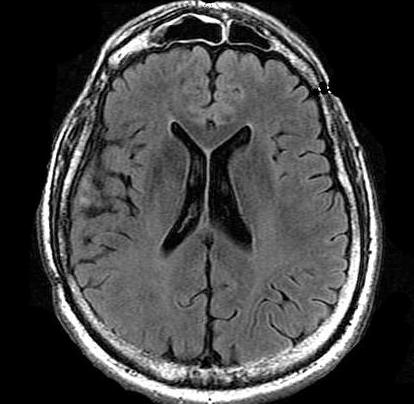Normal_Brain: (1, 1, 414, 404)
